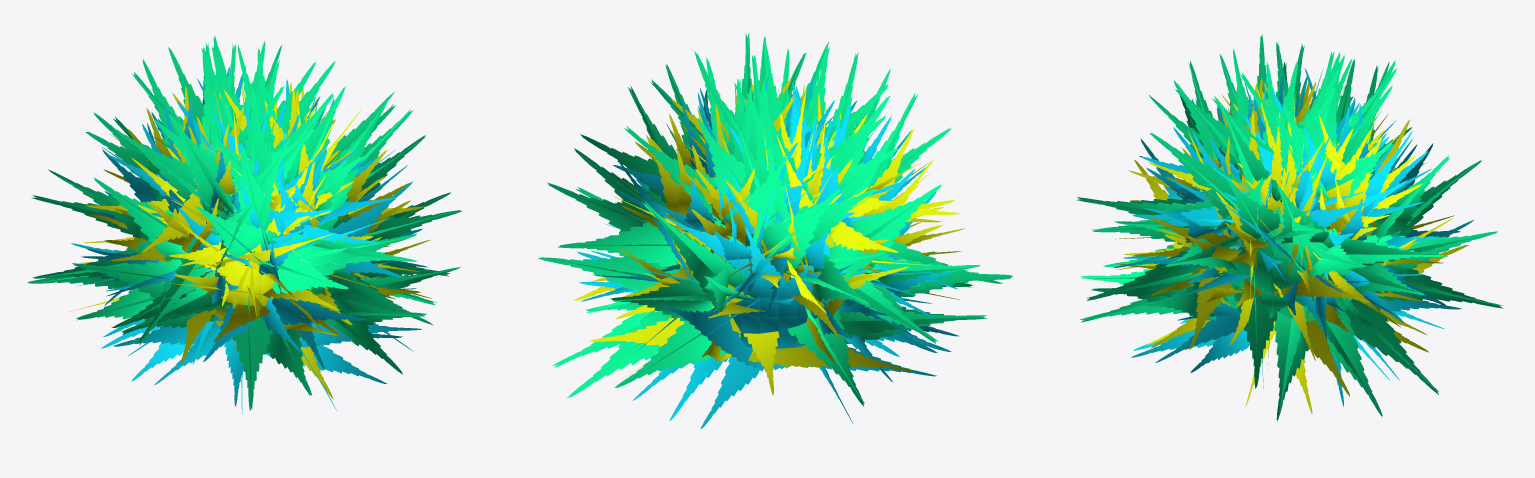
File: bush2.fbx
The picture shows the model from 3 angles, left to right: view 1: azimuth 30°, elevation 25°; view 2: azimuth 150°, elevation 25°; view 3: azimuth 270°, elevation 25°; orthographic projection. The views are drawn at different scales.
Parts seen in each view (by area): view 1: Plane.010; view 2: Plane.010; view 3: Plane.010.
Part boxes in pixels (box(x1,y1,x2,y2)): Plane.010: box(27, 35, 462, 414); Plane.010: box(538, 33, 1013, 428); Plane.010: box(1076, 34, 1502, 421).
Bounding box in the file's own units: 195 × 162 × 192.
